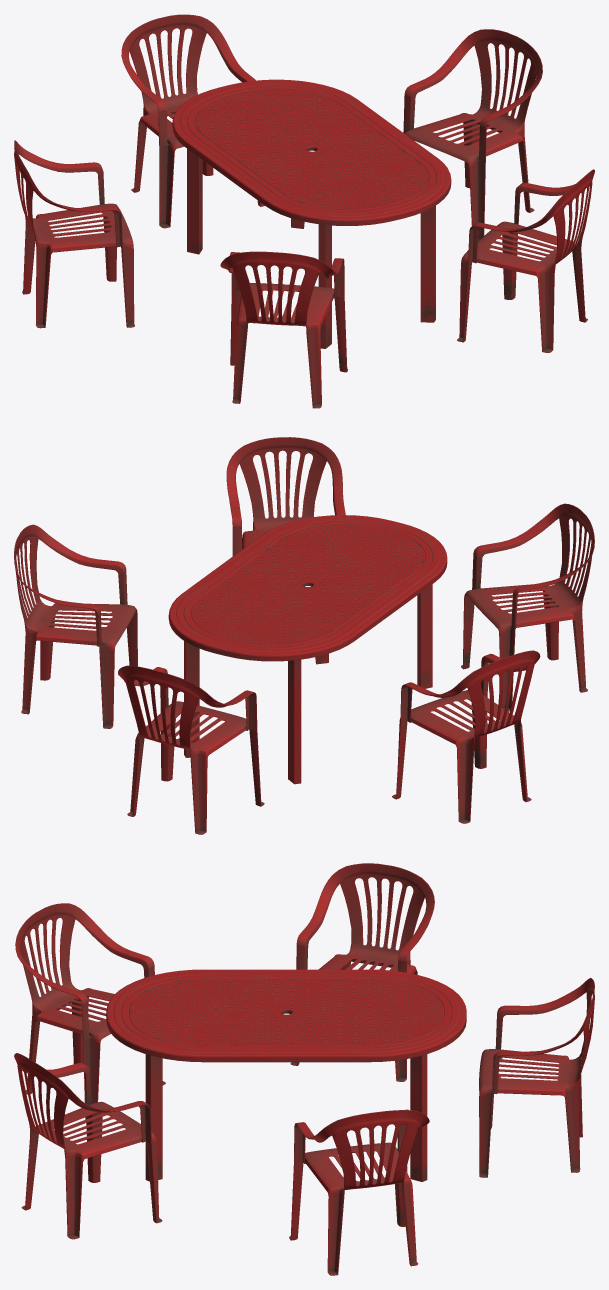
The model's file is table__chair__plastic_5_mb.glb.
3 renders of one model, top to bottom at view 1: azimuth 30°, elevation 25°; view 2: azimuth 150°, elevation 25°; view 3: azimuth 270°, elevation 25°, orthographic. The views are drawn at different scales.
Parts seen in each view (by area): view 1: Plastic_Table, Plastic_Table_3, Plastic_Table_5, Plastic_Table_4, Plastic_Table_6, Plastic_Table_2; view 2: Plastic_Table, Plastic_Table_5, Plastic_Table_3, Plastic_Table_2, Plastic_Table_6, Plastic_Table_4; view 3: Plastic_Table, Plastic_Table_4, Plastic_Table_3, Plastic_Table_5, Plastic_Table_6, Plastic_Table_2.
Part boxes in pixels (x1,y1,x2,y2): Plastic_Table: [172, 79, 451, 348]; Plastic_Table_3: [403, 29, 542, 240]; Plastic_Table_5: [220, 251, 347, 408]; Plastic_Table_4: [457, 169, 594, 352]; Plastic_Table_6: [14, 140, 134, 328]; Plastic_Table_2: [121, 14, 264, 228]; Plastic_Table: [168, 515, 447, 784]; Plastic_Table_5: [461, 503, 594, 711]; Plastic_Table_3: [14, 524, 137, 728]; Plastic_Table_2: [118, 665, 264, 834]; Plastic_Table_6: [392, 650, 540, 823]; Plastic_Table_4: [226, 437, 345, 556]; Plastic_Table: [106, 969, 466, 1181]; Plastic_Table_4: [14, 1053, 162, 1239]; Plastic_Table_3: [289, 1109, 429, 1275]; Plastic_Table_5: [15, 903, 165, 1119]; Plastic_Table_6: [290, 863, 434, 1081]; Plastic_Table_2: [479, 978, 594, 1177].
Size of the model in its own units: 334 by 100 by 323.
Materials: 1 (1 with a texture image).
